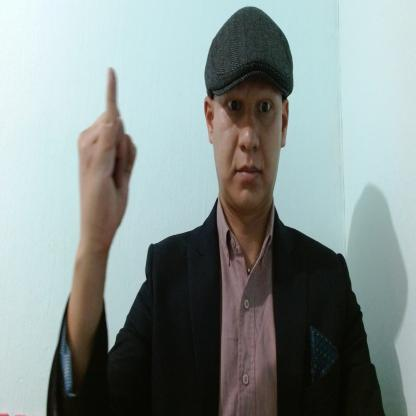I: (75, 66, 137, 238)
